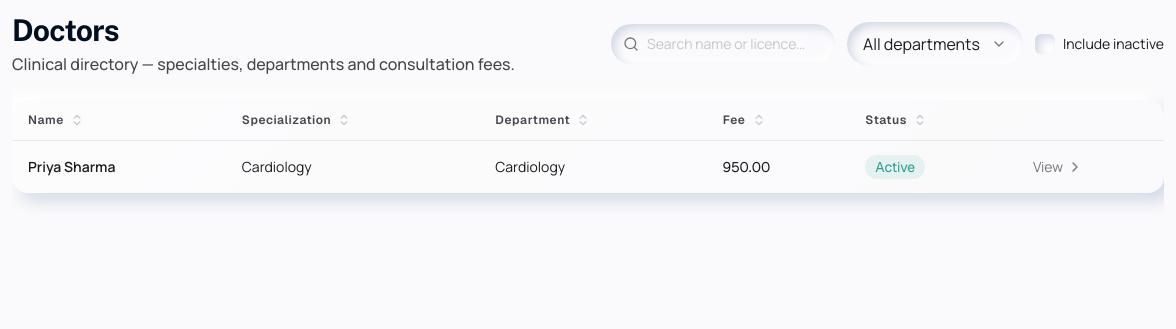
Test: inactive doctors in the directory › sends include_inactive=true when the control is on, and shows active doctors only when off
Click the checkbox named "Include inactive" at (1045, 44), box [1035,34,1055,54]
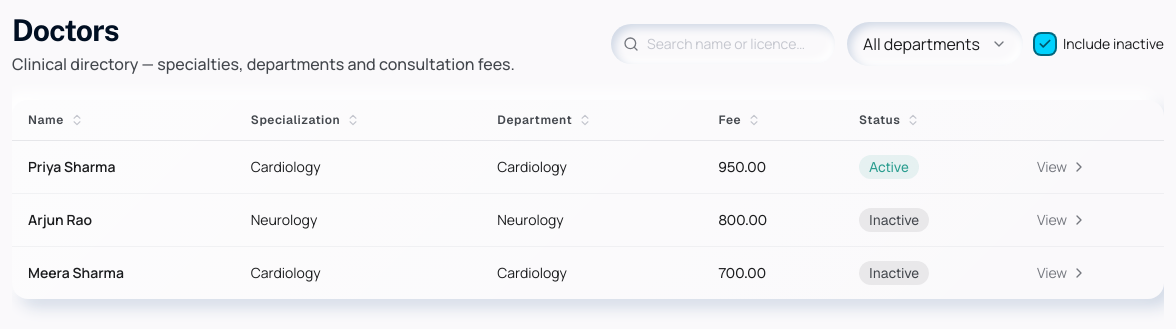
Expected: the text "active" is shown, [859,155,919,179]
Expected: the checkbox named "Include inactive" is checked
Expected: the text "inactive" in the row of "Arjun Rao" is shown, [869,211,919,229]
Click the checkbox named "Include inactive" at (1045, 44), box [1035,34,1055,54]
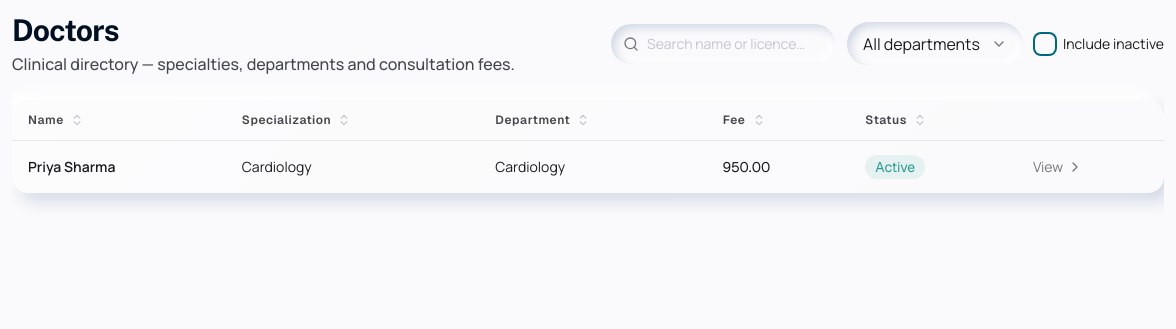
Expected: the row "Priya Sharma Cardiology Cardiology 950.00 active View" is shown, [12,140,1164,193]
Expected: the checkbox named "Include inactive" is not checked, [1035,34,1055,54]
Expected: the text "Arjun Rao" is gone
